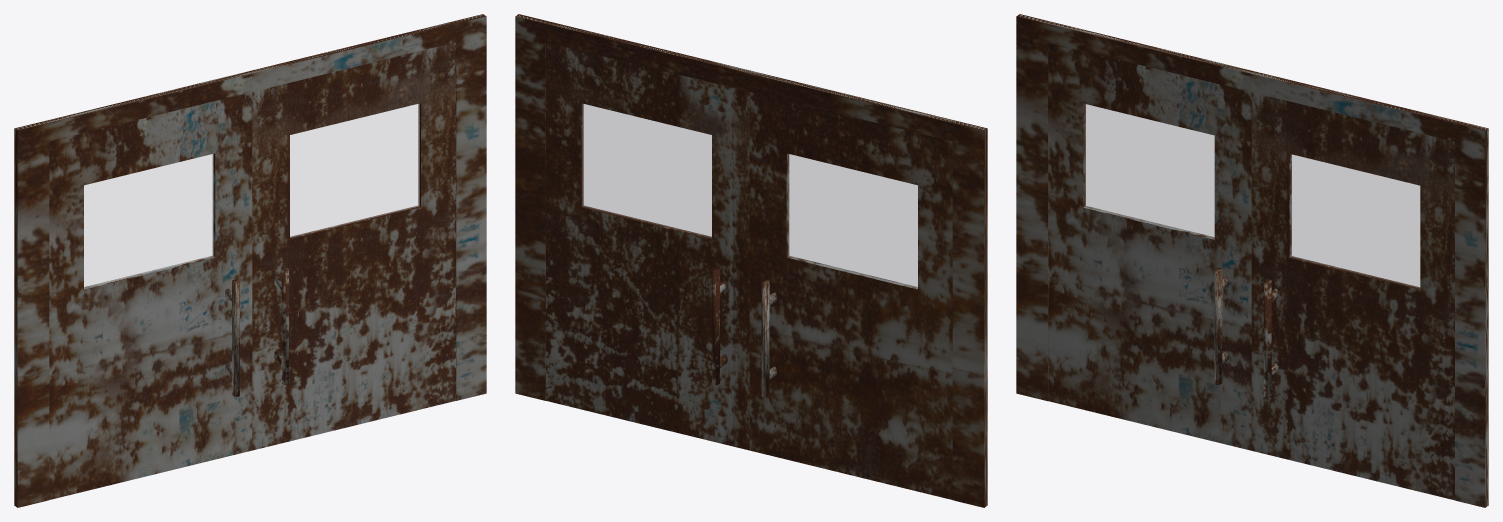
File: door.glb
3 views of the same model, side by side, from view 1: azimuth 30°, elevation 25°; view 2: azimuth 150°, elevation 25°; view 3: azimuth 330°, elevation 25° (orthographic).
Parts seen in each view (by area): view 1: DoorR, DoorL, Frame; view 2: DoorR, DoorL, Frame; view 3: DoorL, DoorR, Frame.
Boxes of the visible parts, left/top/right/bottom form: DoorR: left=252, top=42, right=455, bottom=450; DoorL: left=49, top=92, right=252, bottom=499; Frame: left=14, top=14, right=486, bottom=507; DoorR: left=546, top=42, right=749, bottom=450; DoorL: left=749, top=92, right=952, bottom=499; Frame: left=515, top=14, right=987, bottom=507; DoorL: left=1048, top=42, right=1251, bottom=450; DoorR: left=1251, top=92, right=1454, bottom=500; Frame: left=1016, top=14, right=1488, bottom=507.
Size of the model in its own units: 3.5 by 2.69 by 0.3219.
Materials: 2 (1 with a texture image).
